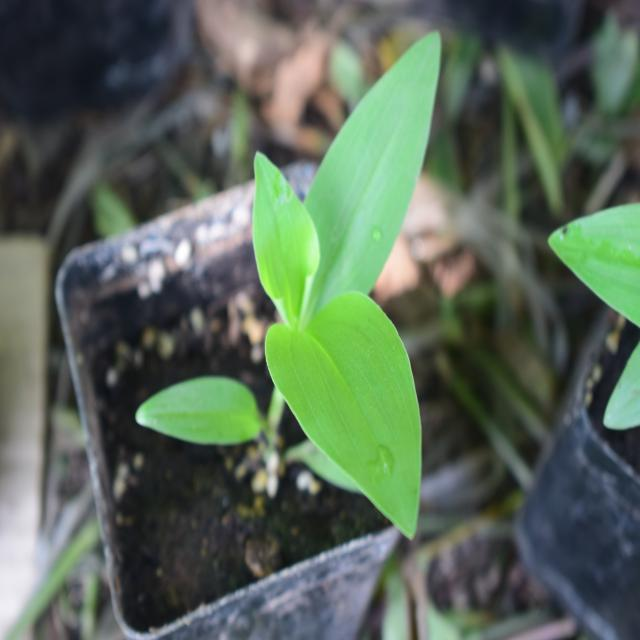Common Dayflower: (155, 15, 473, 552)
